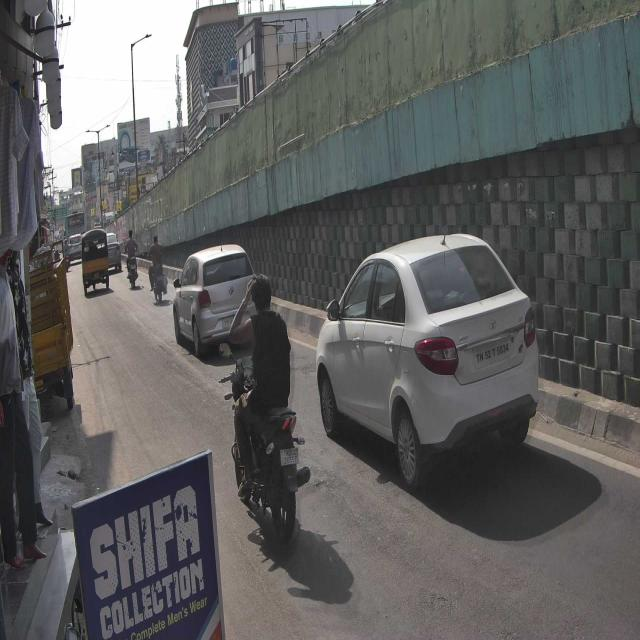single_rider: (217, 270, 314, 546)
